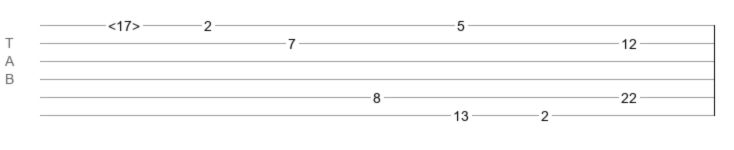12: (621, 36, 637, 46)
13: (453, 108, 469, 118)
2: (204, 18, 212, 28), (541, 108, 549, 118)
22: (621, 90, 637, 100)
5: (457, 18, 465, 28)
7: (288, 36, 296, 46)
8: (373, 90, 381, 100)
harmonic: (108, 18, 140, 28)
